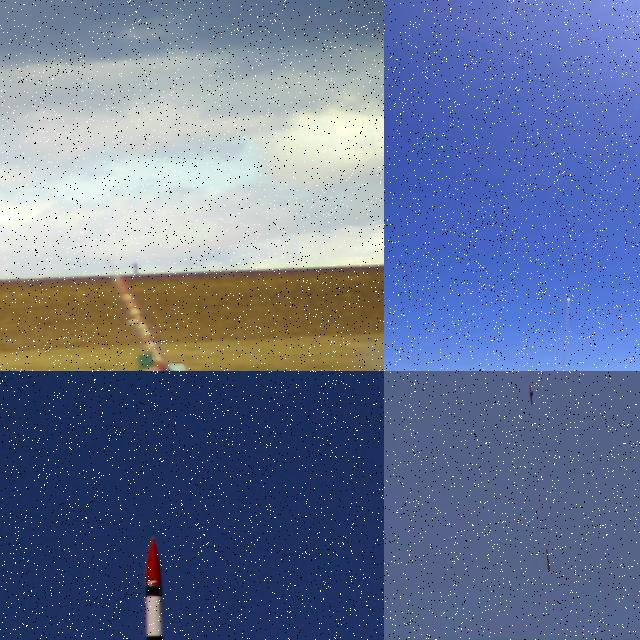Rocket: (111, 271, 187, 371), (124, 534, 191, 640), (546, 547, 551, 571), (566, 294, 571, 302)
